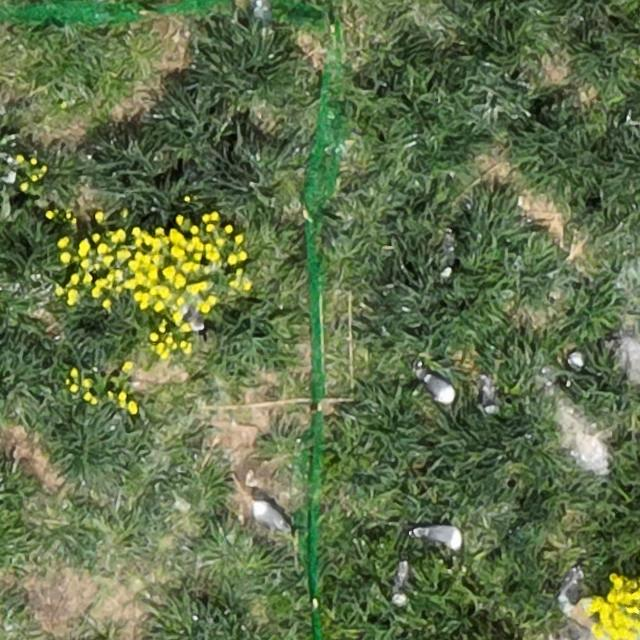umineko: (424, 372, 456, 402), (419, 527, 459, 548), (254, 503, 284, 530)
